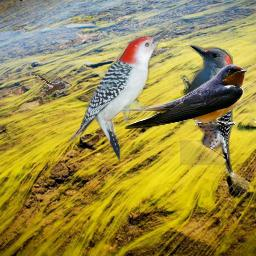Cuckoo: (35, 73, 72, 97)
Swallow: (94, 63, 248, 129)
Woodpecker: (67, 30, 170, 164), (180, 42, 233, 175)
